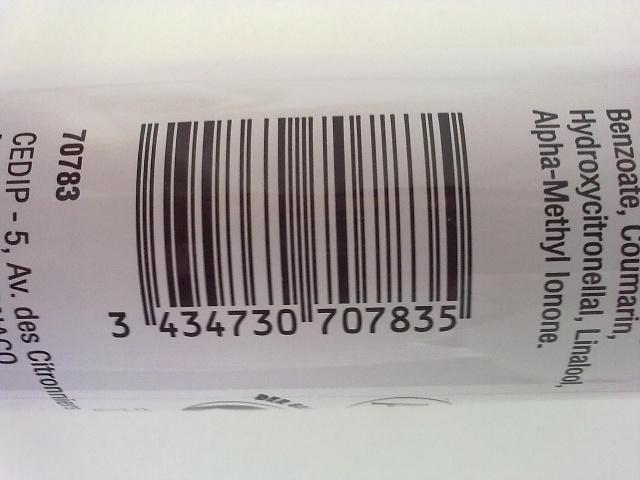Barcode: (101, 104, 480, 351)
